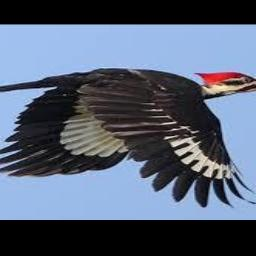Woodpecker: (0, 67, 256, 207)
